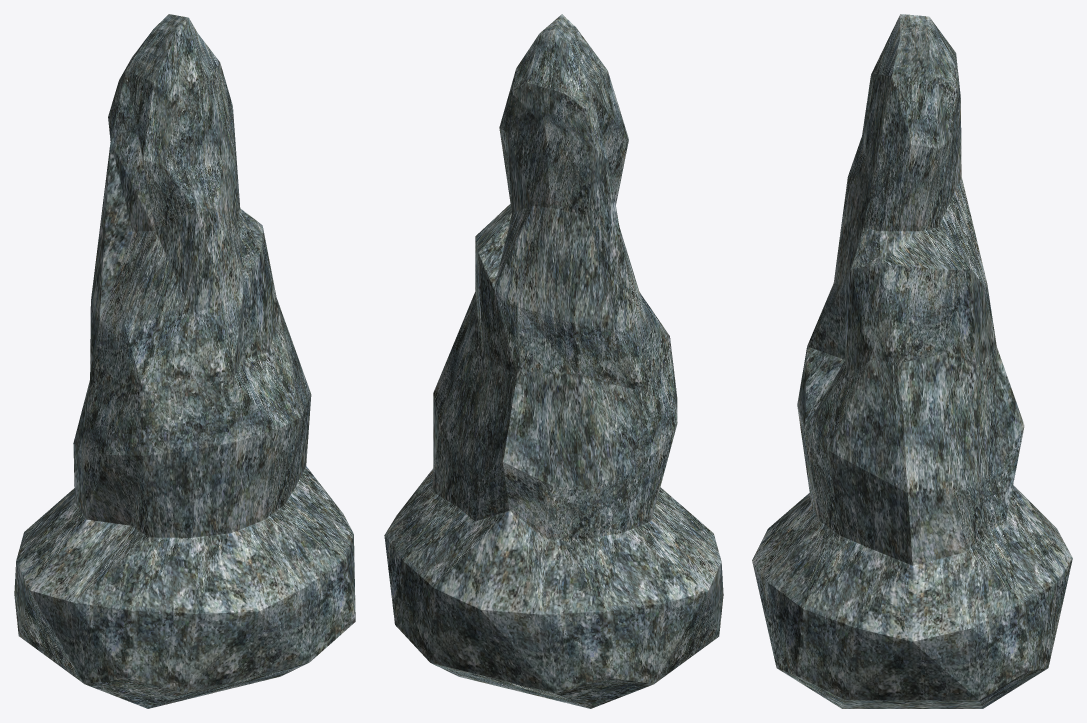
The model's file is rock_dath_desertcanyon_lg_a1_l0.fbx.
3 views of the same model, side by side, from view 1: azimuth 30°, elevation 25°; view 2: azimuth 150°, elevation 25°; view 3: azimuth 270°, elevation 25° (orthographic). The views are drawn at different scales.
Visible parts, largest first — view 1: mesh_node; view 2: mesh_node; view 3: mesh_node.
Part boxes in pixels (left/top/right/bottom): mesh_node: left=14, top=14, right=355, bottom=708; mesh_node: left=384, top=14, right=723, bottom=708; mesh_node: left=752, top=14, right=1072, bottom=708.
Bounding box in the file's own units: 9.17 × 18.25 × 7.99.
